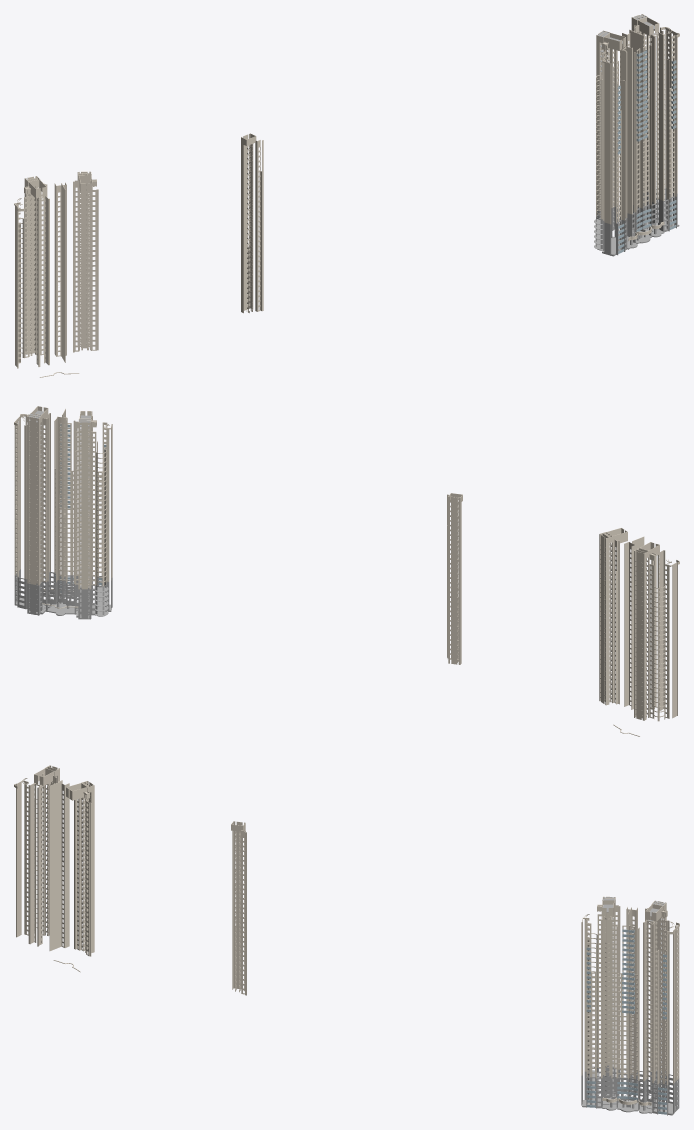
File: lujiazui-5.glb
3 renders of one model, top to bottom at view 1: azimuth 30°, elevation 25°; view 2: azimuth 150°, elevation 25°; view 3: azimuth 330°, elevation 25°, orthographic. The views are drawn at different scales.
Parts seen in each view (by area): view 1: source_2038_Mat3d66-1303573-2051-9833_part0, source_2036_Mat3d66-1303573-2048-6564_part0, source_2035_Mat3d66-1303573-2119-613_part0, source_2037_Mat3d66-1303573-2035-4469_part0; view 2: source_2038_Mat3d66-1303573-2051-9833_part0, source_2036_Mat3d66-1303573-2048-6564_part0, source_2037_Mat3d66-1303573-2035-4469_part0; view 3: source_2038_Mat3d66-1303573-2051-9833_part0, source_2036_Mat3d66-1303573-2048-6564_part0, source_2035_Mat3d66-1303573-2119-613_part0, source_2037_Mat3d66-1303573-2035-4469_part0.
Boxes of the visible parts, bbox=[...] form: source_2038_Mat3d66-1303573-2051-9833_part0: bbox=[14, 14, 679, 377]; source_2036_Mat3d66-1303573-2048-6564_part0: bbox=[596, 188, 679, 256]; source_2035_Mat3d66-1303573-2119-613_part0: bbox=[617, 50, 676, 253]; source_2037_Mat3d66-1303573-2035-4469_part0: bbox=[594, 15, 678, 254]; source_2038_Mat3d66-1303573-2051-9833_part0: bbox=[14, 406, 679, 736]; source_2036_Mat3d66-1303573-2048-6564_part0: bbox=[14, 569, 112, 619]; source_2037_Mat3d66-1303573-2035-4469_part0: bbox=[16, 410, 110, 617]; source_2038_Mat3d66-1303573-2051-9833_part0: bbox=[14, 765, 679, 1105]; source_2036_Mat3d66-1303573-2048-6564_part0: bbox=[581, 1064, 679, 1115]; source_2035_Mat3d66-1303573-2119-613_part0: bbox=[586, 929, 666, 1114]; source_2037_Mat3d66-1303573-2035-4469_part0: bbox=[582, 897, 675, 1113].
Bounding box in the file's own units: 450 × 131 × 41.67.
